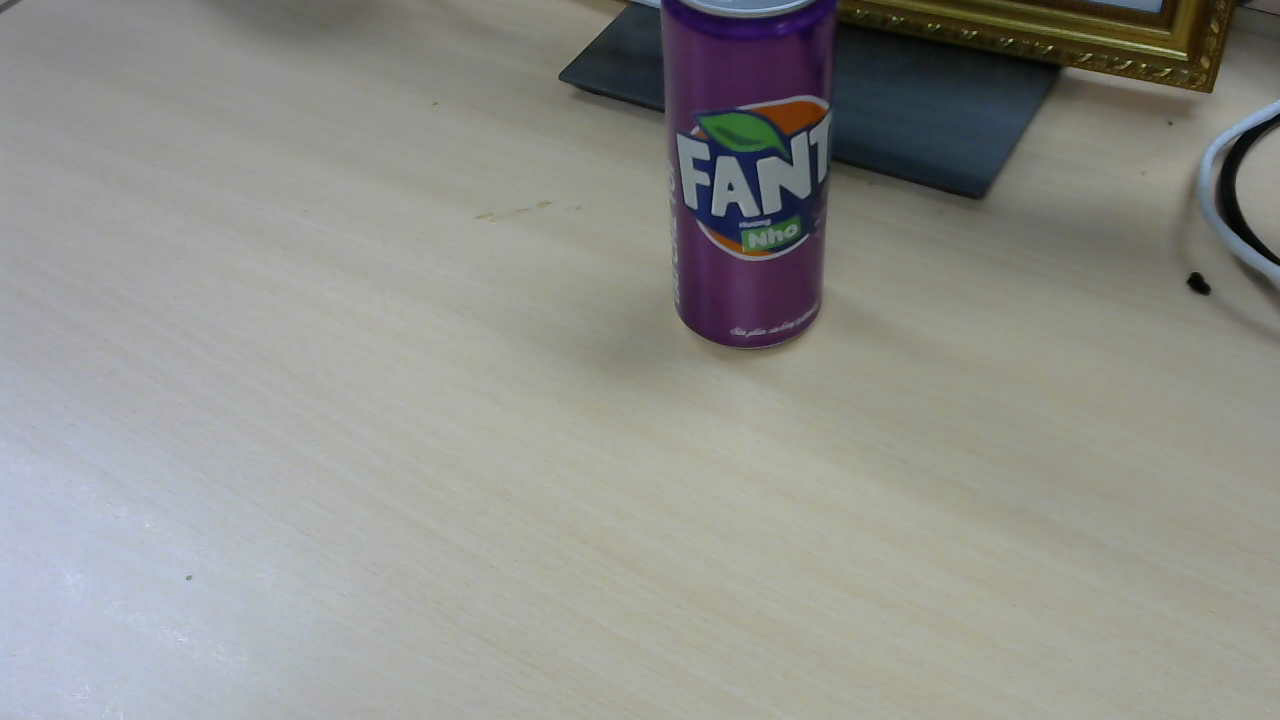Fanta: (661, 4, 836, 355)
